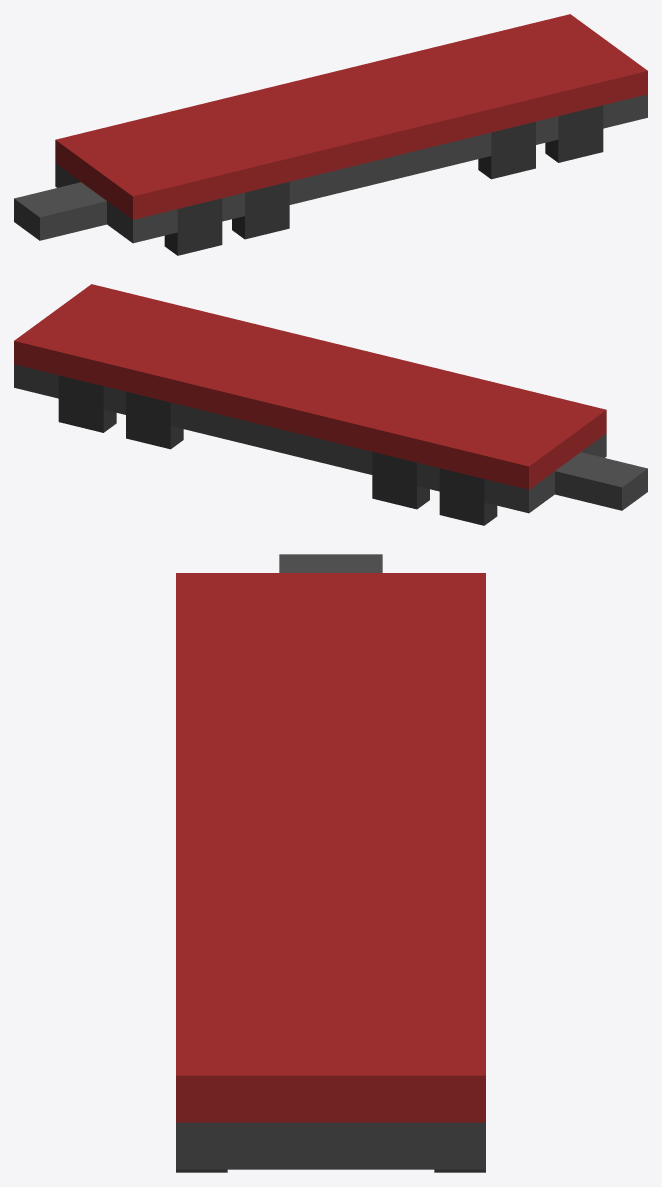
File: train-trailer-v6-red.gltf
3 views of the same model, one above another, from view 1: azimuth 30°, elevation 25°; view 2: azimuth 150°, elevation 25°; view 3: azimuth 270°, elevation 25° (orthographic). The views are drawn at different scales.
Parts seen in each view (by area): view 1: model, wheels; view 2: model, wheels; view 3: model.
Part boxes in pixels (left/top/right/bottom): model: left=14, top=14, right=647, bottom=243; wheels: left=164, top=105, right=603, bottom=255; model: left=14, top=284, right=647, bottom=513; wheels: left=58, top=375, right=497, bottom=525; model: left=176, top=554, right=485, bottom=1169.
Size of the model in its own units: 2.6 by 0.3 by 0.6.
Materials: 2 (2 with a texture image).
